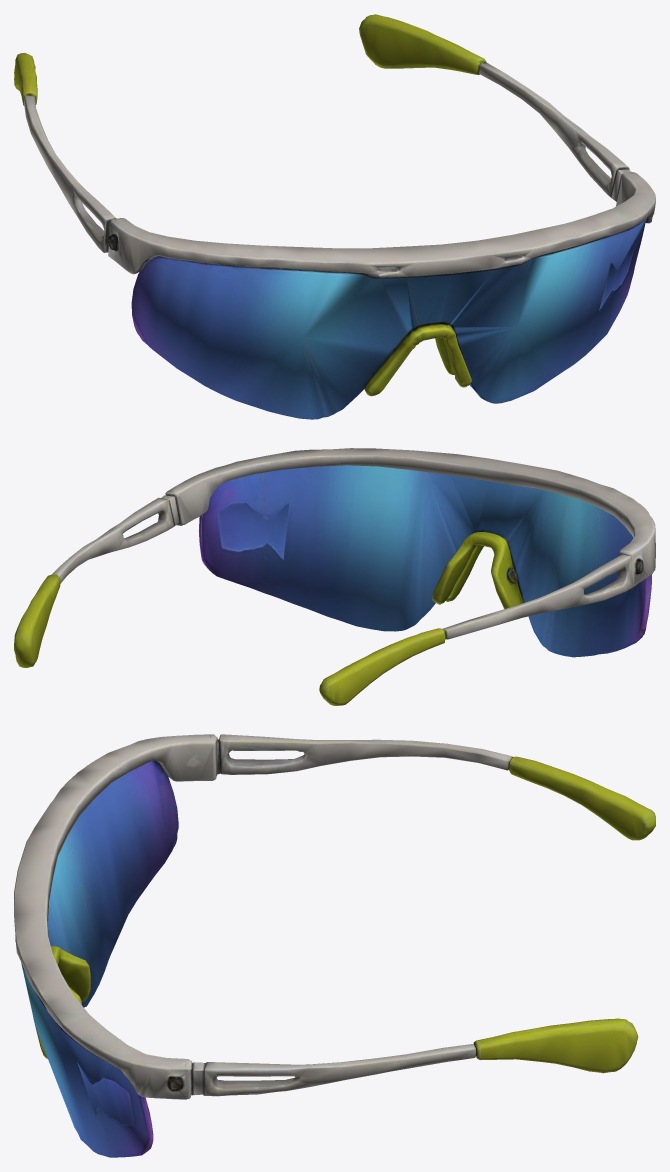
File: visor-de-pista-b87402d6aab1.glb
3 views of the same model, one above another, from view 1: azimuth 30°, elevation 25°; view 2: azimuth 150°, elevation 25°; view 3: azimuth 270°, elevation 25° (orthographic). The views are drawn at different scales.
Parts seen in each view (by area): view 1: Cyan Shield Visor; view 2: Cyan Shield Visor; view 3: Cyan Shield Visor.
Part boxes in pixels (box(x1,y1,x2,y2)): Cyan Shield Visor: box(14, 14, 655, 419); Cyan Shield Visor: box(14, 448, 655, 705); Cyan Shield Visor: box(14, 734, 655, 1157).
Size of the model in its own units: 0.9785 by 0.3965 by 0.998.
Materials: 1 (1 with a texture image).
